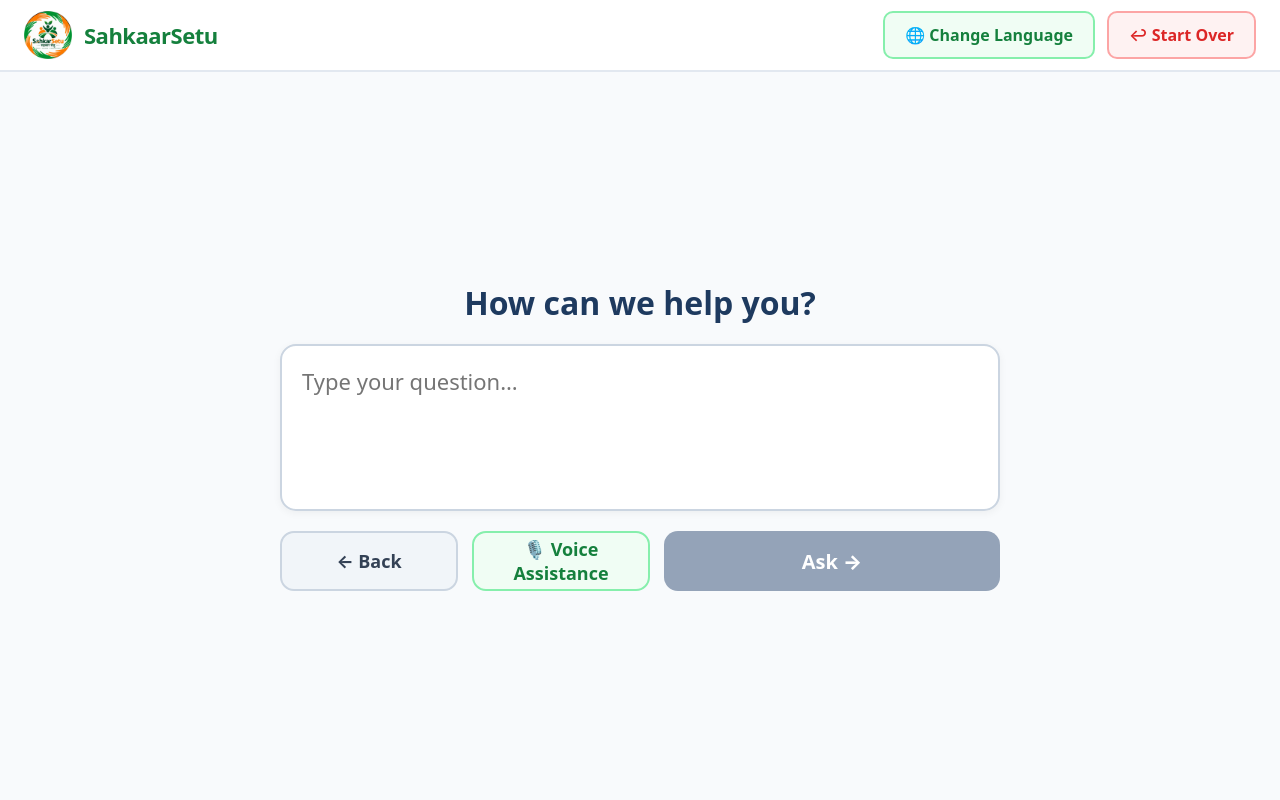
it: K7: 58mm Thermal Printer System › Screen Integration: TypeScreen › renders Print Slip button when query is answered, and opens PrintModal
Step 1. Type "What is fertilizer subsidy?" into the text box with placeholder "Type your question…" → (640, 428), box [280, 344, 1000, 511]
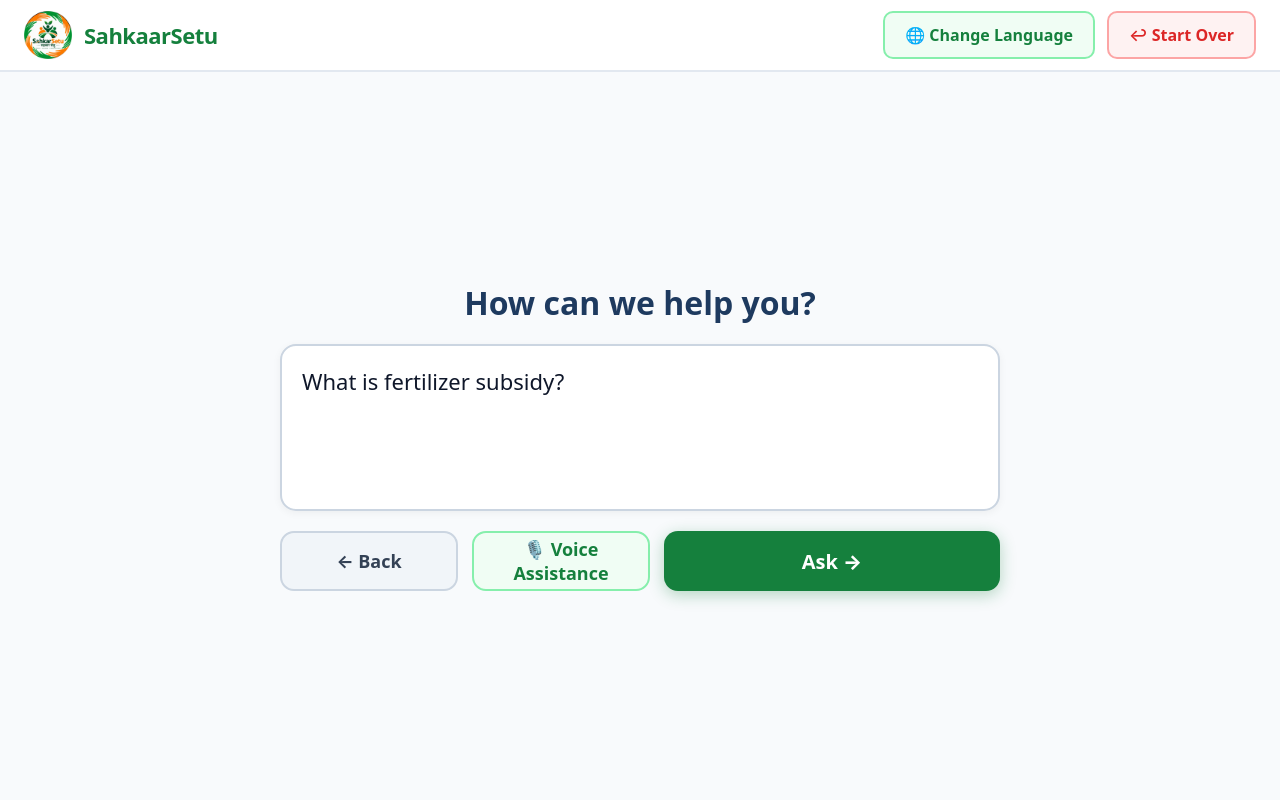
Step 2. Click the button "Ask →" → (832, 561), box [664, 531, 1000, 591]
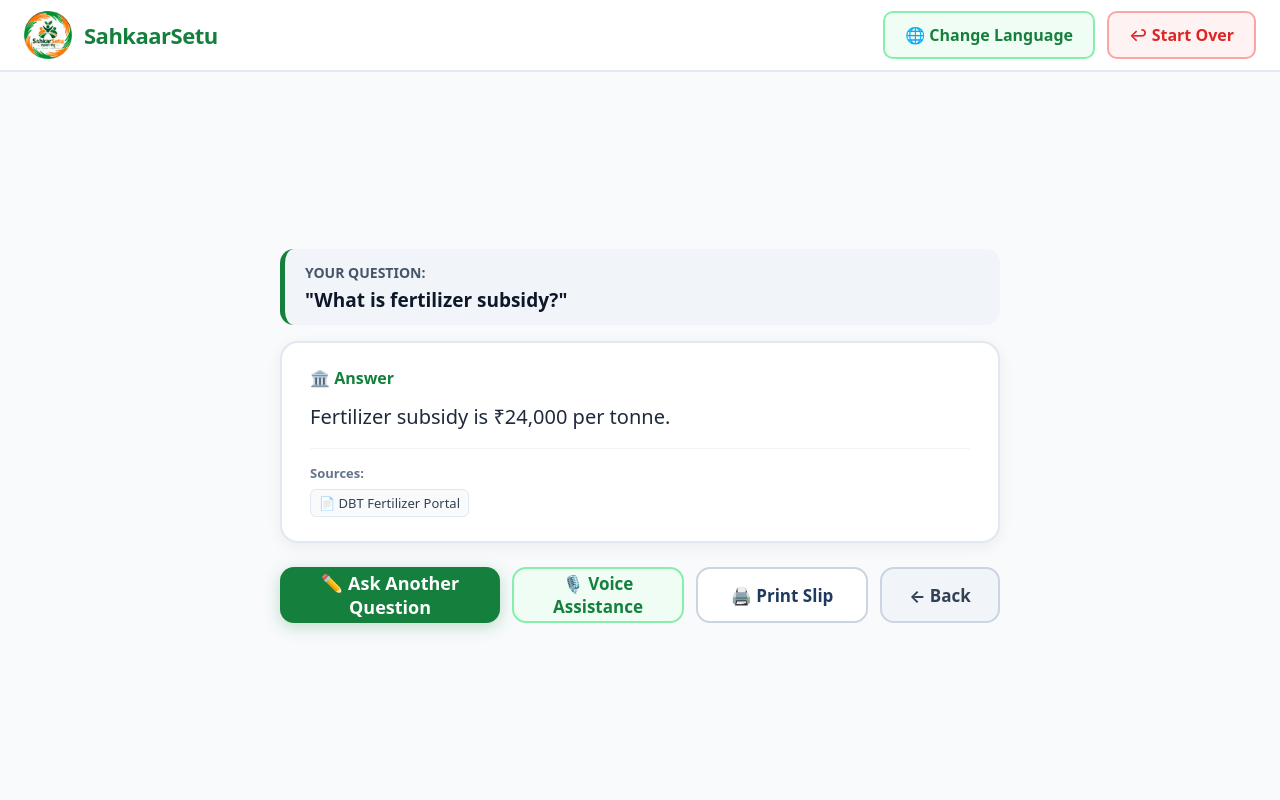
Result: the text "Fertilizer subsidy is ₹24,000 per tonne." is shown at [310, 403, 670, 430]
# Click Print Slip
Step 3. Click the button "🖨️ Print Slip" → (782, 595), box [696, 567, 868, 623]
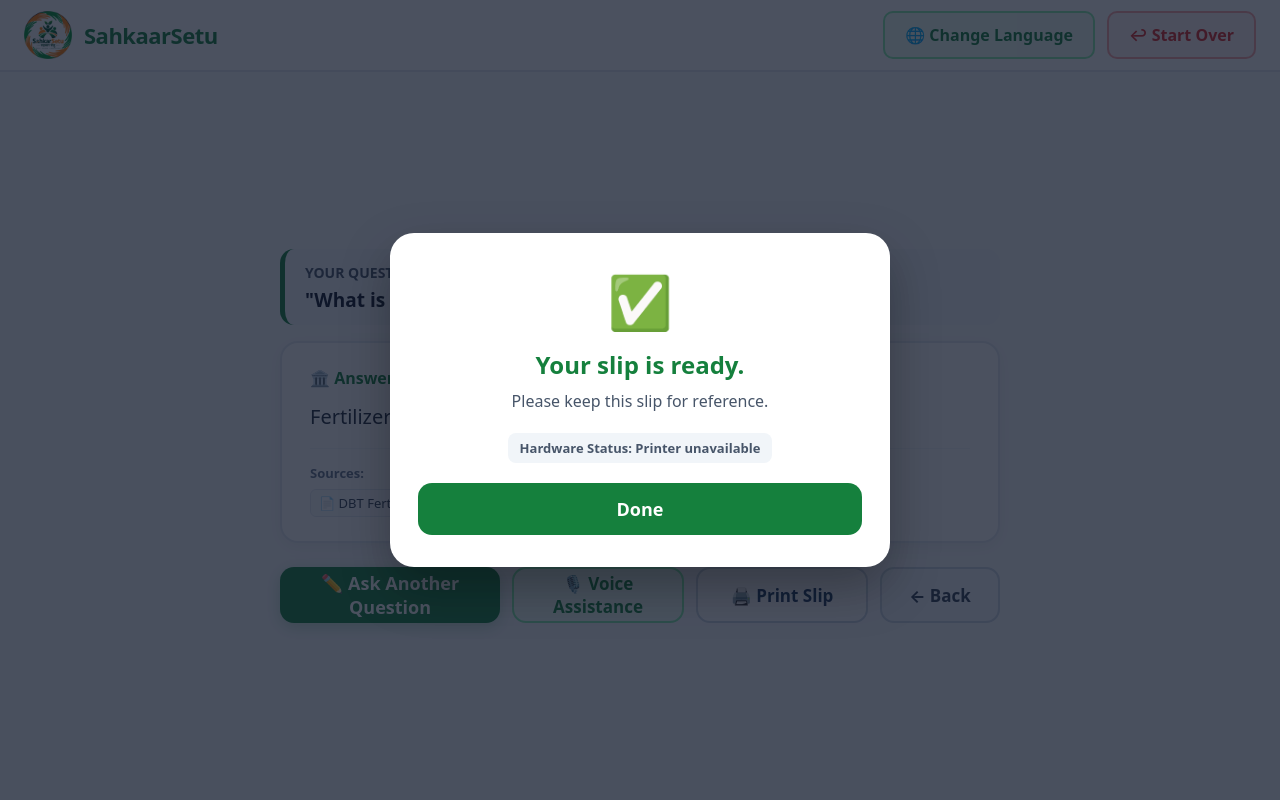
Result: the dialog is shown
Result: the heading "Your slip is ready." is shown at [536, 348, 744, 381]
